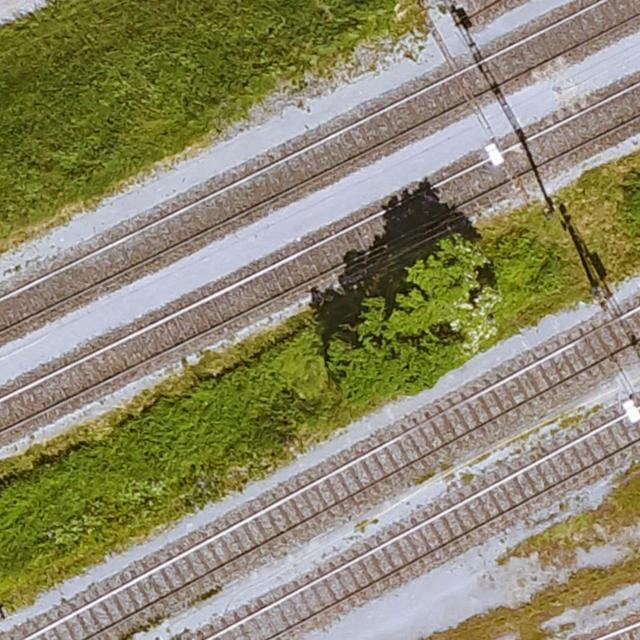tree: (327, 298, 438, 398), (404, 238, 488, 318)
